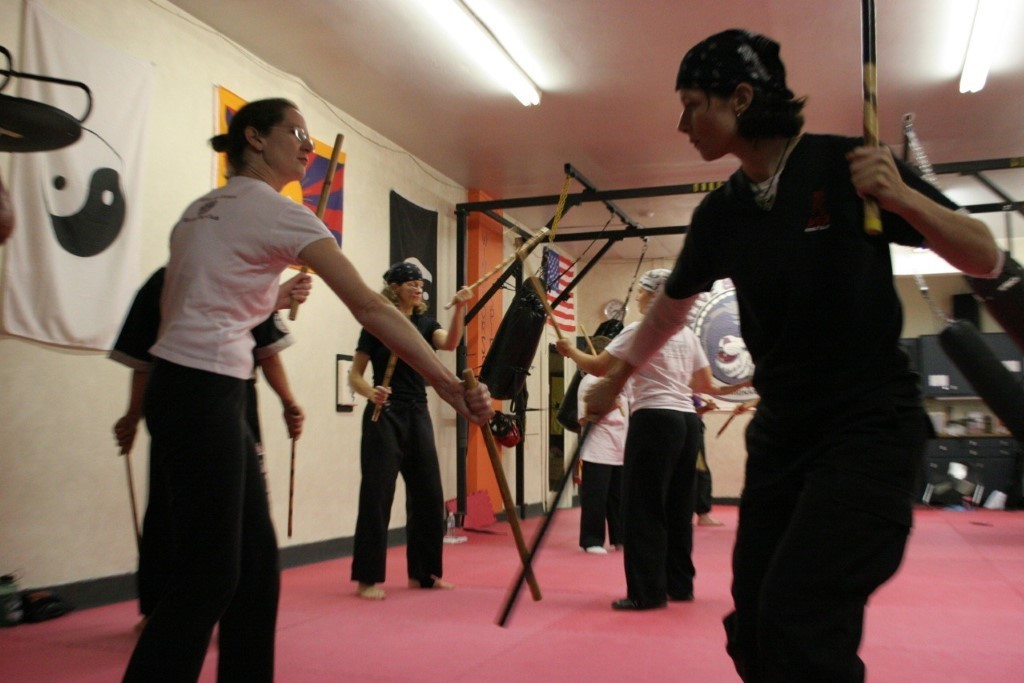baston_e: (497, 434, 592, 615), (462, 381, 537, 596), (284, 147, 341, 312), (447, 232, 546, 301), (858, 0, 886, 219), (515, 252, 561, 336), (582, 329, 624, 412), (121, 452, 143, 540), (370, 358, 398, 414), (285, 441, 298, 532), (719, 413, 733, 436)
baston_v: (855, 212, 890, 240), (491, 616, 510, 632), (459, 364, 474, 379), (333, 130, 347, 142), (540, 223, 552, 237), (531, 594, 544, 606), (441, 299, 454, 311), (368, 413, 379, 424), (286, 313, 297, 323), (290, 405, 302, 414), (285, 530, 295, 538), (714, 431, 722, 439), (578, 322, 584, 329), (713, 404, 720, 410)
